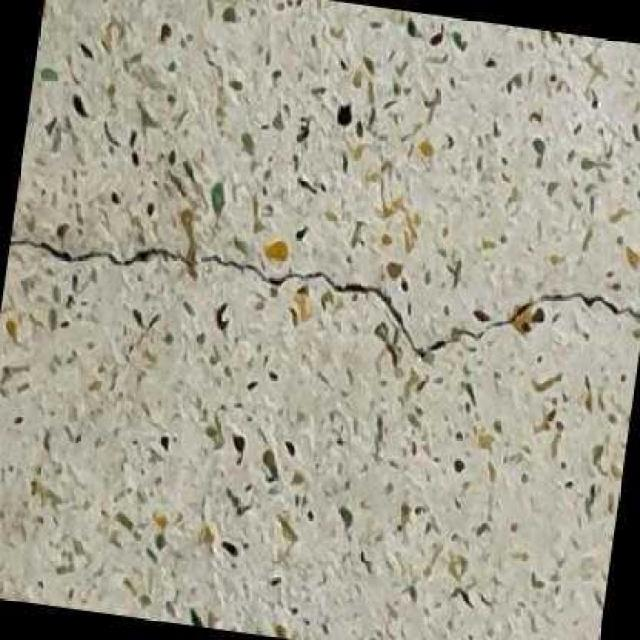D00: (7, 230, 640, 361)
